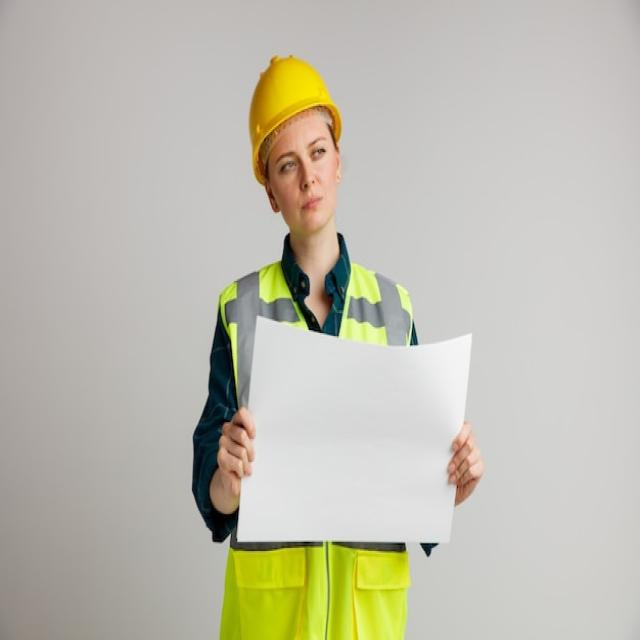helmet: (246, 50, 344, 188)
no-goggles: (258, 136, 338, 188)
vest: (210, 258, 418, 640)
